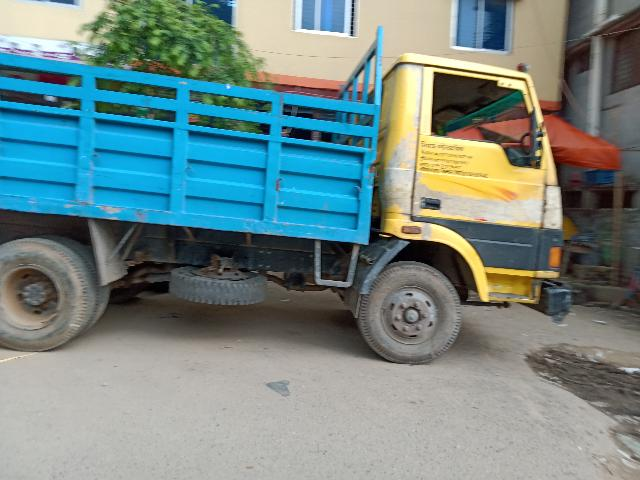truck: (0, 6, 580, 365)
